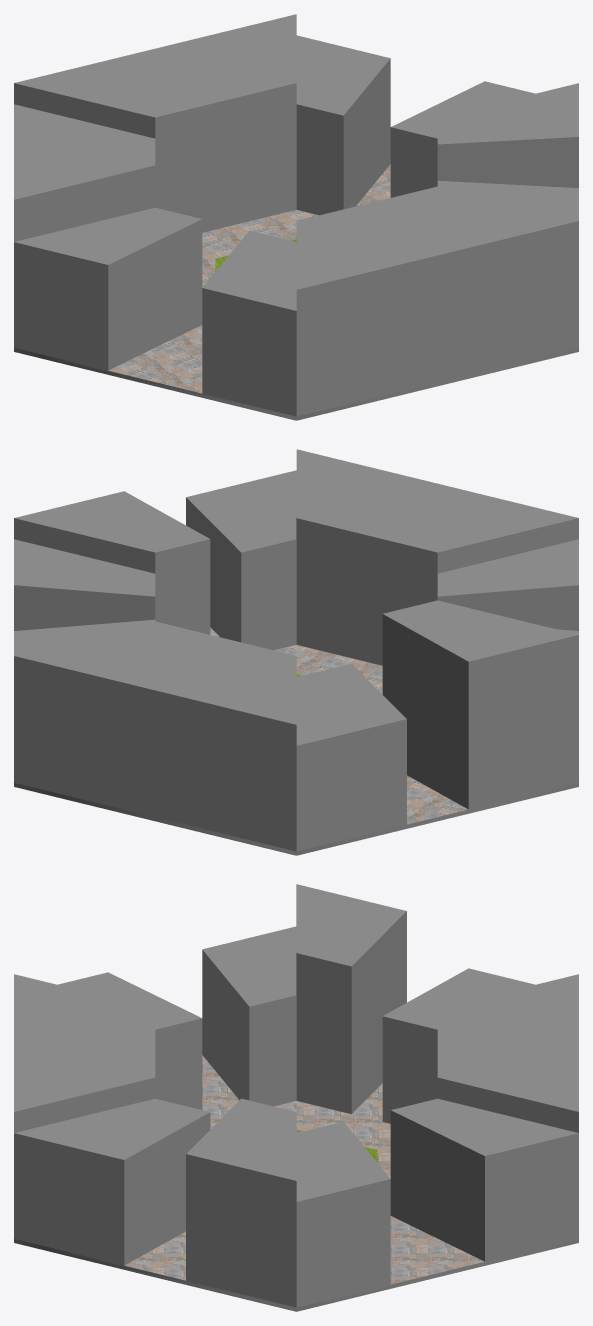
The picture shows the model from 3 angles, top to bottom: view 1: azimuth 30°, elevation 25°; view 2: azimuth 150°, elevation 25°; view 3: azimuth 270°, elevation 25°; orthographic projection.
Parts seen in each view (by area): view 1: Cylinder001; view 2: Cylinder001; view 3: Cylinder001.
Boxes of the visible parts, bbox=[...] form: Cylinder001: bbox=[14, 14, 578, 420]; Cylinder001: bbox=[14, 449, 578, 855]; Cylinder001: bbox=[14, 884, 578, 1311].
Size of the model in its own units: 140 by 36 by 121.
Materials: 5 (2 with a texture image).
